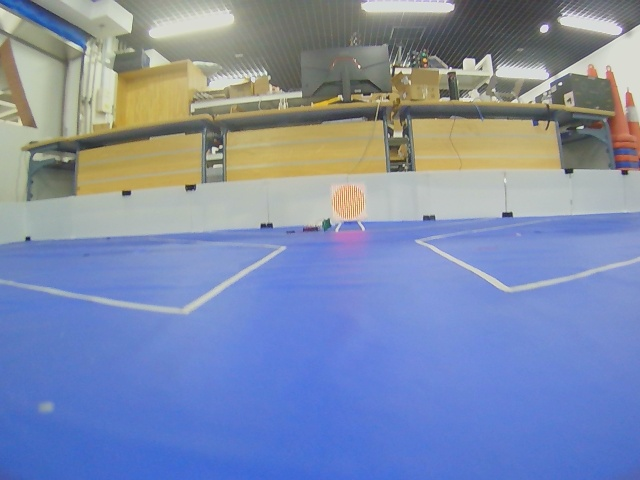red: (332, 184, 366, 222)
